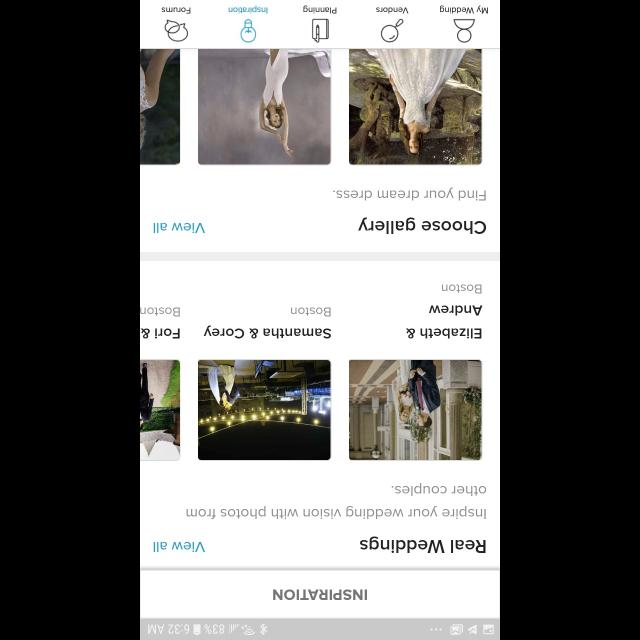icon: (381, 18, 404, 42), (453, 19, 475, 43), (165, 20, 188, 42), (312, 19, 328, 43)
image: (348, 49, 482, 165), (197, 50, 331, 166), (348, 359, 482, 461), (198, 359, 330, 461), (140, 49, 180, 165), (140, 359, 180, 461), (240, 19, 256, 43)
text: (186, 483, 486, 519), (406, 305, 482, 339), (358, 218, 486, 235), (332, 187, 486, 201), (359, 536, 485, 552), (204, 325, 332, 339), (273, 588, 367, 600), (154, 540, 206, 552), (154, 222, 206, 234), (140, 328, 180, 338), (290, 307, 330, 317), (441, 284, 481, 294), (440, 5, 488, 13), (140, 308, 180, 316), (228, 5, 268, 13), (376, 6, 408, 14), (304, 5, 336, 13), (162, 7, 190, 13)
uppertaskbar: (140, 618, 500, 640)
